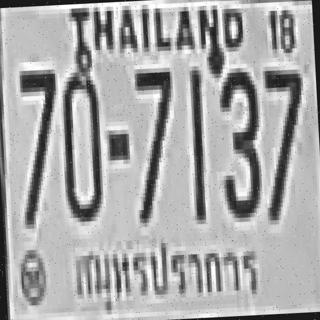N00: (58, 67, 104, 218)
N01: (187, 66, 206, 220)
N03: (216, 65, 261, 216)
N07: (16, 65, 62, 225), (260, 65, 308, 216), (131, 65, 176, 221)
P57: (71, 230, 264, 309)
